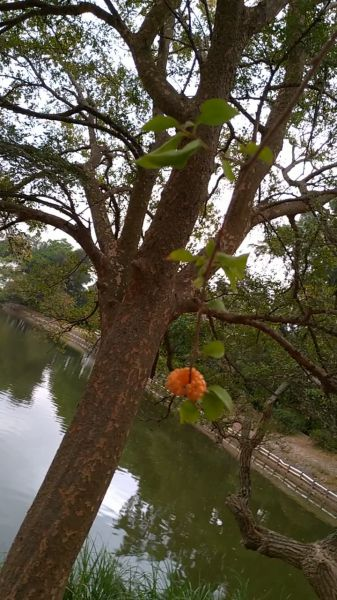eggs: (163, 359, 210, 406)
